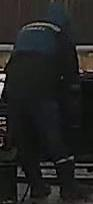vest: (5, 19, 74, 107)
